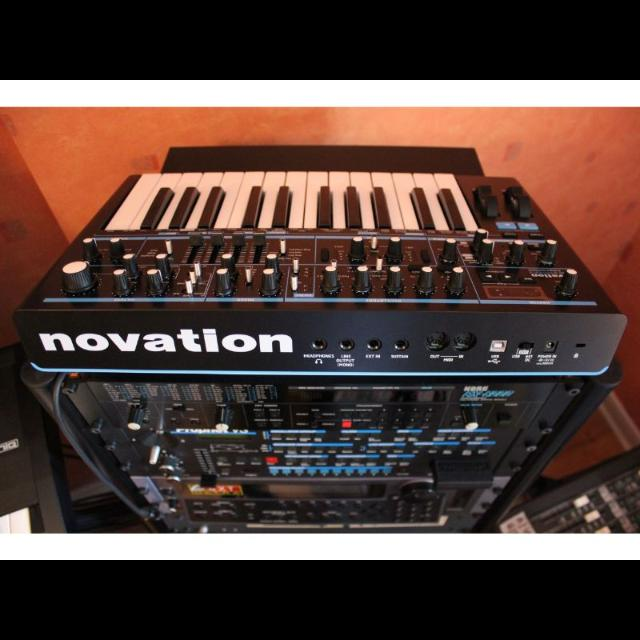Electronic-Keyboard: (26, 164, 618, 388)
